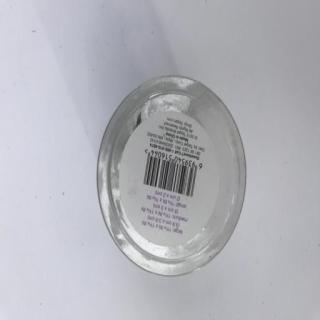Plastic-bottle: (95, 74, 249, 280)
